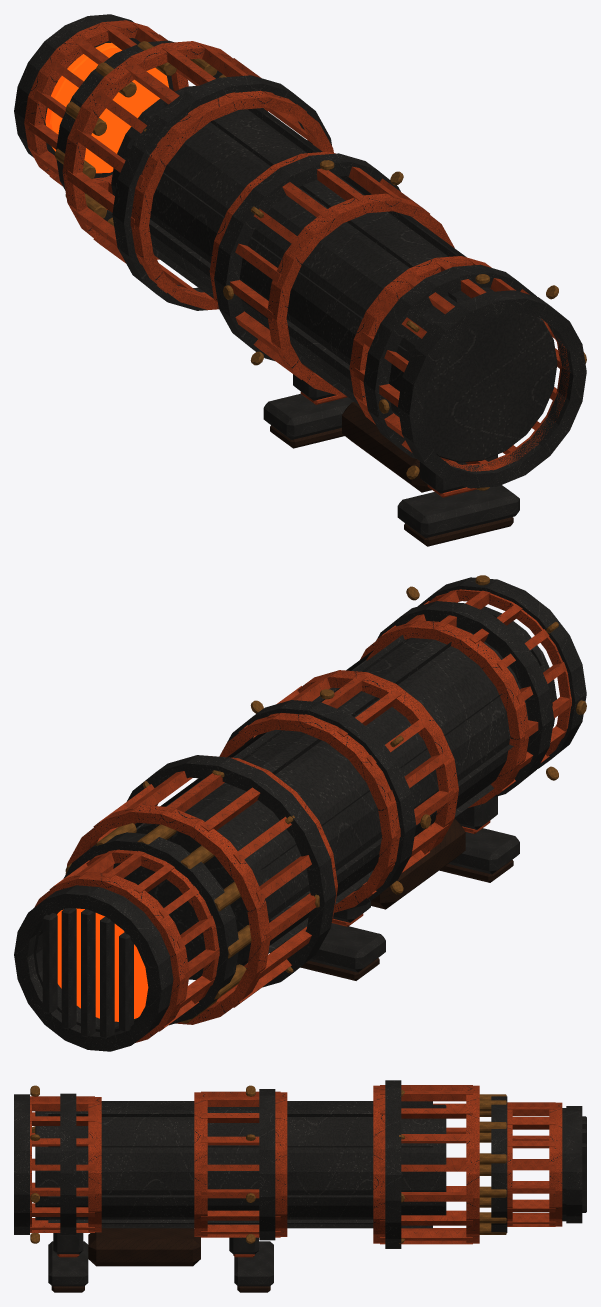
The model's file is kiln-focus-stowed.glb.
The picture shows the model from 3 angles, top to bottom: view 1: azimuth 30°, elevation 25°; view 2: azimuth 150°, elevation 25°; view 3: azimuth 270°, elevation 25°; orthographic projection. The views are drawn at different scales.
Parts seen in each view (by area): view 1: Forged barrel core, Machined barrel rim, Ceramic vent header, Machined barrel rim.003, Ceramic vent header.003, Machined barrel rim.002, Machined barrel rim.001, Ceramic vent footer, Backpack mount shoe, Ceramic vent footer.001, Banked ember recessed chamber, Ceramic vent footer.002 (+22 smaller); view 2: Forged barrel core, Muzzle lip, Machined barrel rim.003, Ceramic vent footer, Machined barrel rim.001, Ceramic vent footer.003, Ceramic vent footer.002, Machined barrel rim.004, Machined barrel rim.002, Ceramic vent header.003, Machined barrel rim, Ceramic vent footer.001 (+32 smaller); view 3: Forged barrel core, Insulated palm grip, Machined barrel rim.003, Machined barrel rim.002, Machined barrel rim.001, Machined barrel rim, Ceramic vent footer, Muzzle lip, Machined barrel rim.004, Ceramic vent header, Ceramic vent header.003, Ceramic vent footer.003 (+47 smaller).
Part boxes in pixels (x1,y1,x2,y2): Forged barrel core: (111, 85, 557, 462); Machined barrel rim: (398, 290, 586, 488); Ceramic vent header: (130, 90, 333, 309); Machined barrel rim.003: (112, 75, 331, 310); Ceramic vent header.003: (267, 193, 454, 395); Machined barrel rim.002: (214, 153, 400, 361); Machined barrel rim.001: (363, 264, 536, 458); Ceramic vent footer: (62, 41, 267, 259); Backpack mount shoe: (397, 485, 519, 537); Ceramic vent footer.001: (24, 20, 188, 190); Banked ember recessed chamber: (45, 42, 168, 173); Ceramic vent footer.002: (349, 256, 491, 424); Forged barrel core: (113, 606, 556, 979); Muzzle lip: (14, 885, 172, 1051); Machined barrel rim.003: (127, 755, 335, 987); Ceramic vent footer: (65, 805, 270, 1024); Machined barrel rim.001: (376, 601, 553, 797); Ceramic vent footer.003: (219, 713, 400, 912); Ceramic vent footer.002: (360, 620, 529, 807); Machined barrel rim.004: (63, 832, 238, 1025); Machined barrel rim.002: (222, 700, 416, 912); Ceramic vent header.003: (297, 670, 458, 854); Machined barrel rim: (418, 577, 586, 768); Ceramic vent footer.001: (34, 871, 189, 1042); Forged barrel core: (35, 1104, 446, 1224); Insulated palm grip: (88, 1228, 200, 1266); Machined barrel rim.003: (385, 1080, 401, 1248); Machined barrel rim.002: (259, 1089, 275, 1240); Machined barrel rim.001: (60, 1093, 76, 1235); Machined barrel rim: (14, 1094, 29, 1234); Ceramic vent footer: (466, 1085, 479, 1243); Muzzle lip: (566, 1106, 582, 1223); Machined barrel rim.004: (491, 1096, 507, 1232); Ceramic vent header: (373, 1085, 385, 1243); Ceramic vent header.003: (194, 1092, 207, 1236); Ceramic vent footer.003: (275, 1092, 287, 1236).
Size of the model in its own units: 0.256 by 0.3175 by 0.864.
5 materials, 4 textured.
